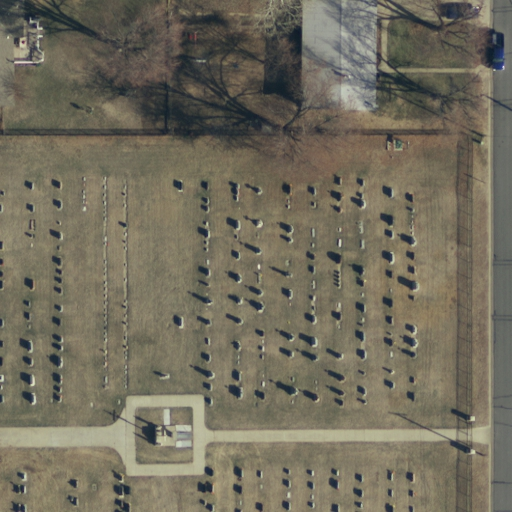DT: (470, 442, 495, 468)
